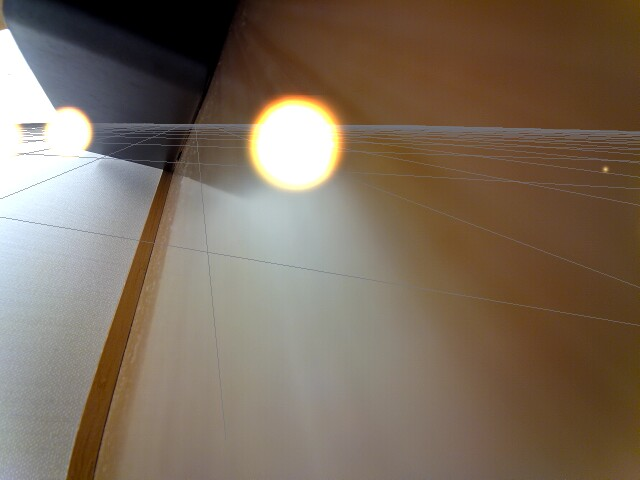firebig: (225, 80, 354, 205)
